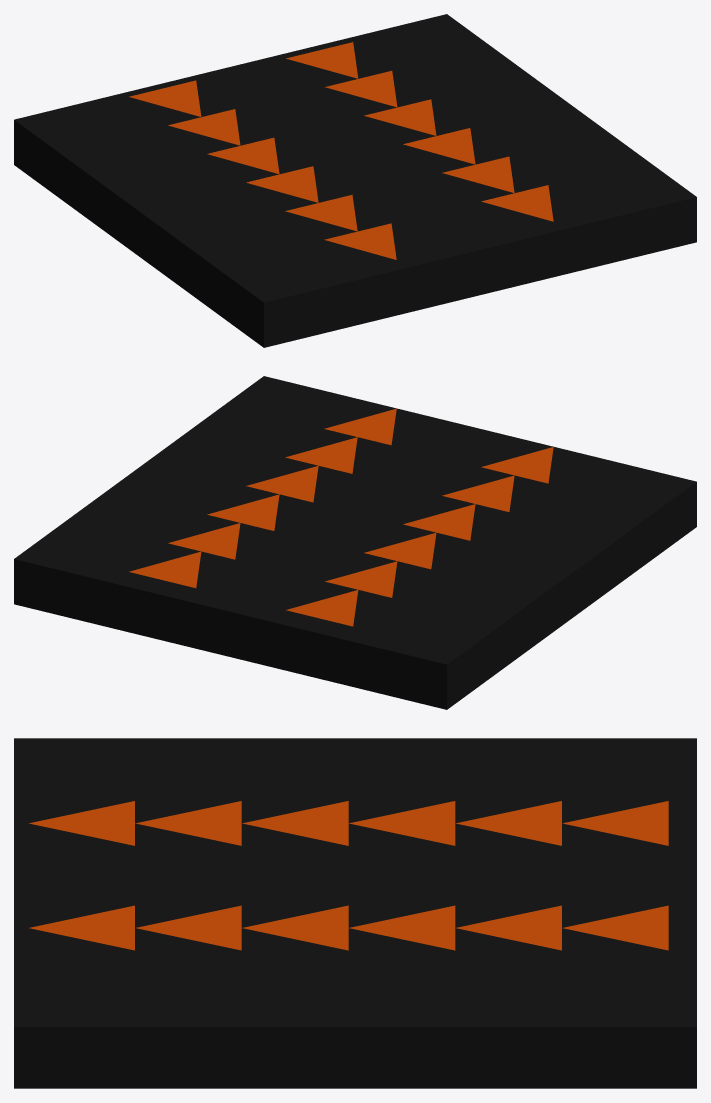
Rendered from transportbelt2.obj.
3 views of the same model, one above another, from view 1: azimuth 30°, elevation 25°; view 2: azimuth 150°, elevation 25°; view 3: azimuth 270°, elevation 25° (orthographic). The views are drawn at different scales.
Visible parts, largest first — view 1: Cube_Cube.001, Plane; view 2: Cube_Cube.001, Plane; view 3: Cube_Cube.001, Plane.
Boxes of the visible parts, <box> form: Cube_Cube.001: <box>14,14,696,347</box>; Plane: <box>129,42,553,259</box>; Cube_Cube.001: <box>14,376,696,709</box>; Plane: <box>129,408,553,626</box>; Cube_Cube.001: <box>14,738,696,1088</box>; Plane: <box>29,801,668,950</box>.
Size of the model in its own units: 64 by 7.1 by 64.
